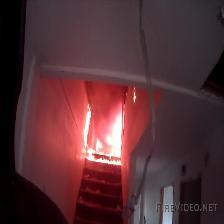fire: (83, 99, 126, 164)
